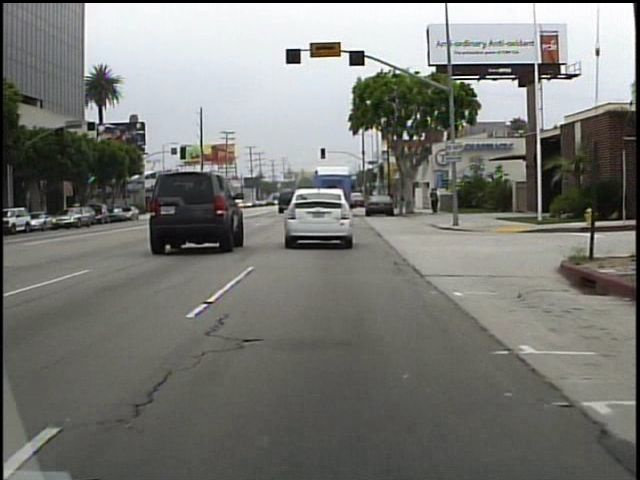person: (428, 187, 439, 217), (435, 187, 444, 213)
